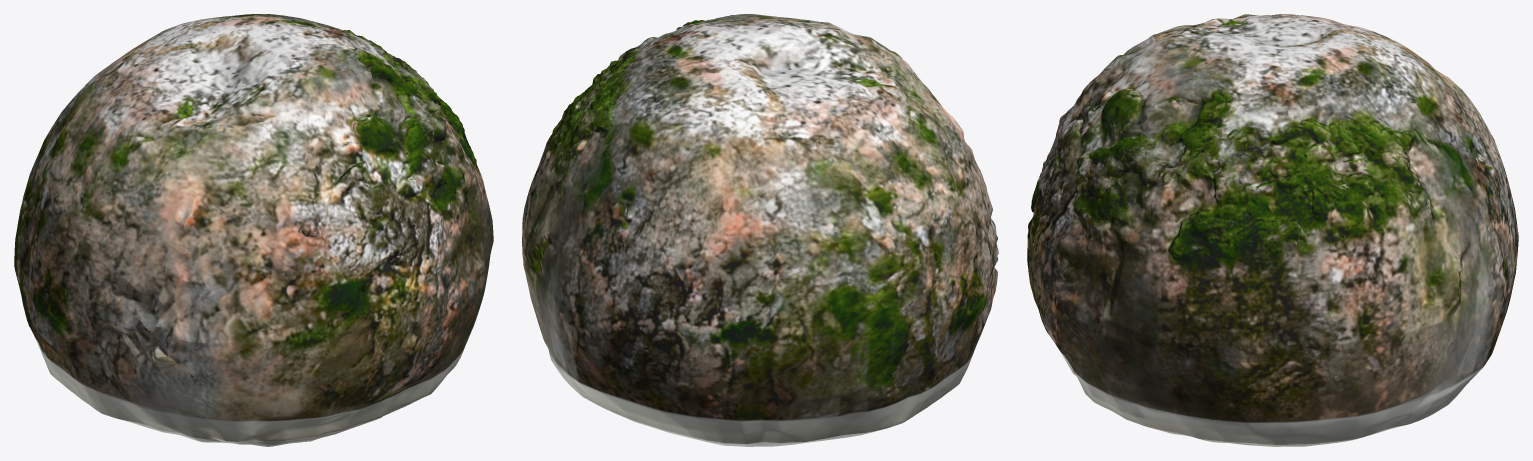
Rendered from lux3d-6380597-1.glb.
3 renders of one model, left to right at view 1: azimuth 30°, elevation 25°; view 2: azimuth 150°, elevation 25°; view 3: azimuth 270°, elevation 25°, orthographic. The views are drawn at different scales.
Visible parts, largest first — view 1: geometry_0; view 2: geometry_0; view 3: geometry_0.
Part boxes in pixels (<box>): geometry_0: <box>14,14,493,446</box>; geometry_0: <box>522,14,998,446</box>; geometry_0: <box>1027,14,1518,446</box>.
Size of the model in its own units: 0.18 by 0.1379 by 0.1798.
Materials: 1 (1 with a texture image).
